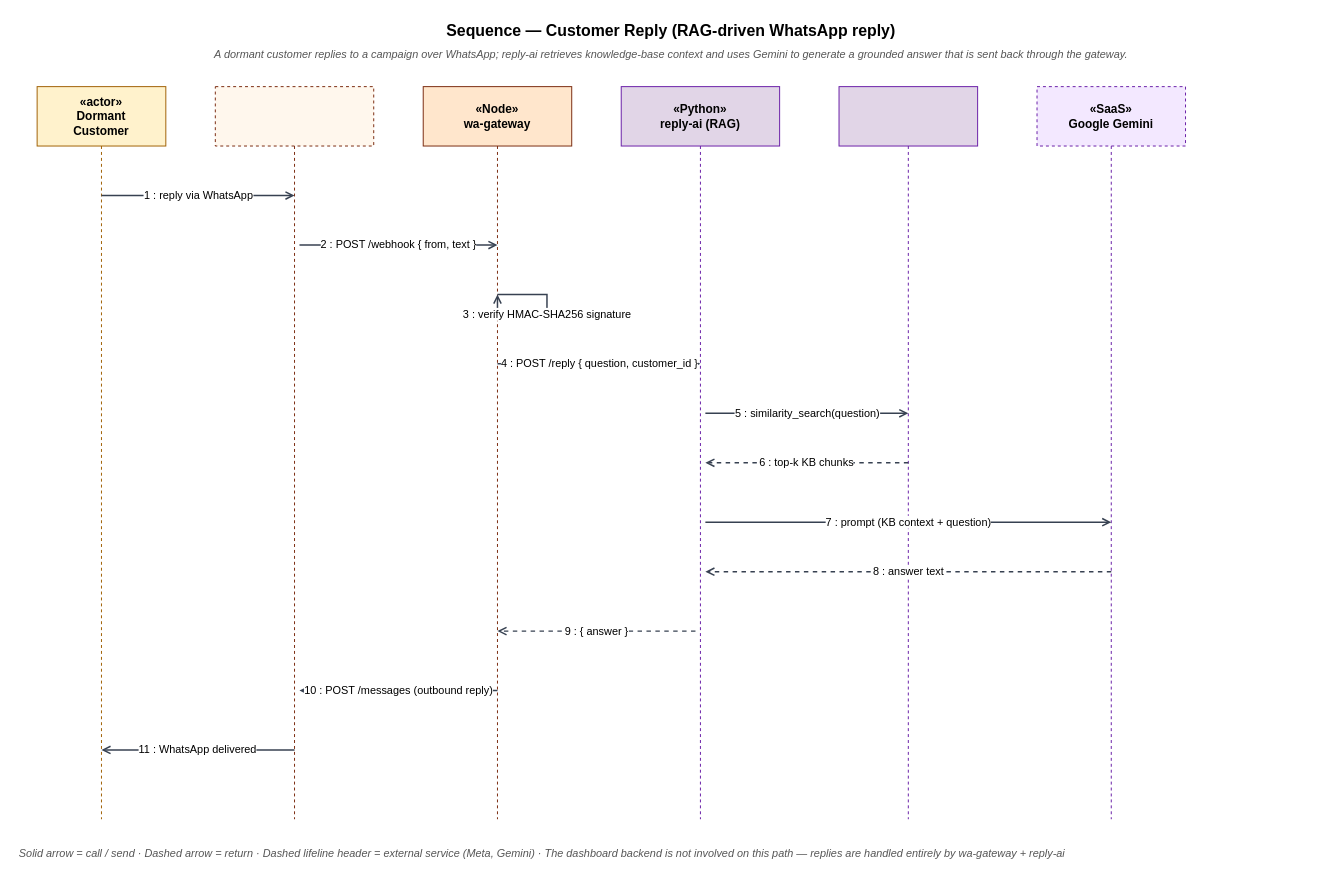
The diagram is 1340 pixels wide and 885 high, and some of its shapes have lost their labels. The box of each missing label's shape, as (x1, y1, x2, y2) in pixels:
«SaaS» WhatsApp (Meta): (214, 86, 374, 819)
«store» ChromaDB (KB): (838, 86, 978, 819)
